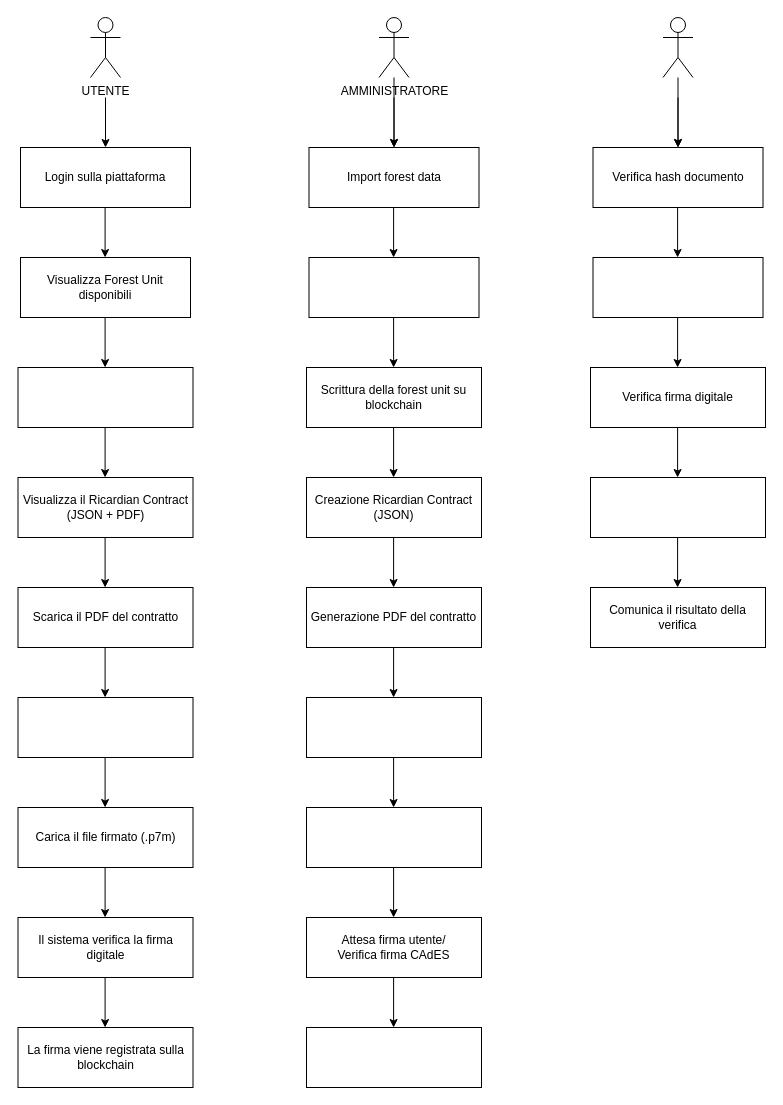
The diagram is 783 pixels wide and 1105 high, and some of its shapes have lost their labels. The centre of each missing label's shape, as x and y in pixels:
Confronto dati on-chain / off-chain: (678,507)
Creazione batch dati forestali: (393,287)
Firma digitalmente il PDF (CAdES .p7m): (105,727)
Registrazione countersignature su blockchain: (394,1057)
Registrazione su Blockchain del contratto (JSON+PDF): (394,727)
Salvataggio: - ricardianHash - merkleRoot - pdfUri: (394,837)
Scegli la forest unit da visualizzare/modificare/scrivere su blockchain: (105,397)
SISTEMA: (677,47)
Verifica Merkle proofs: (677,287)
